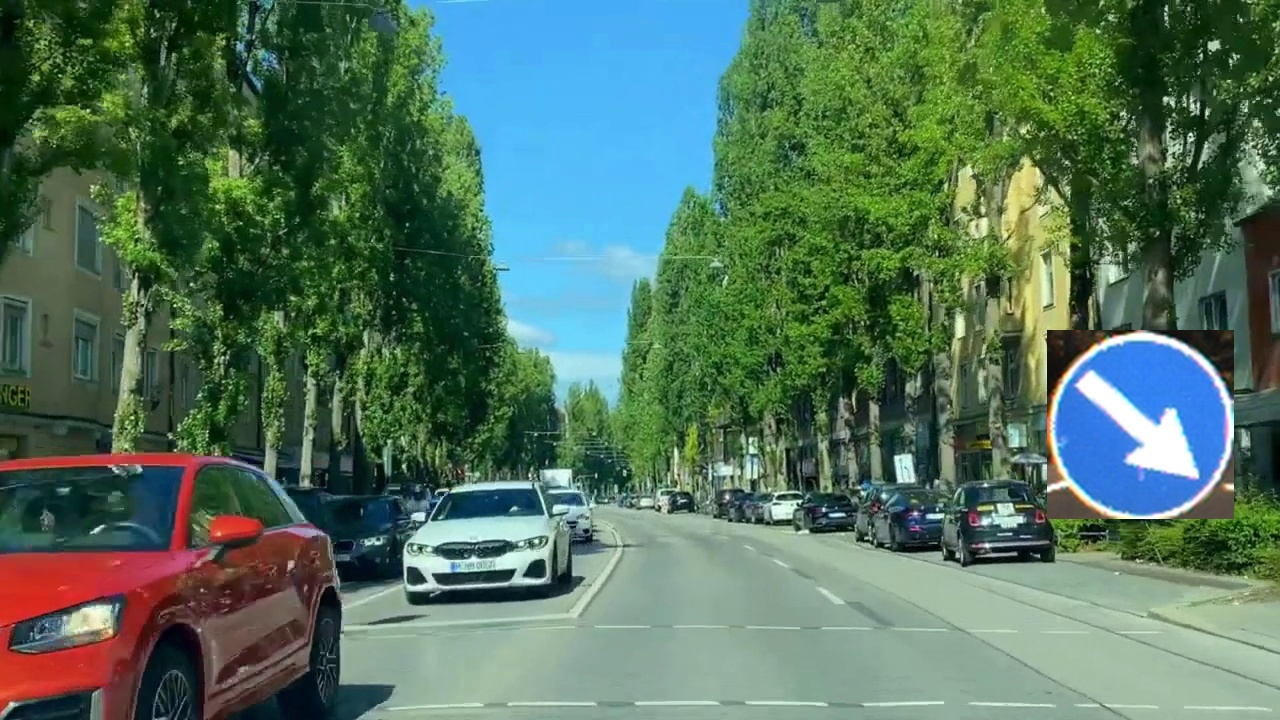Keep right: (1047, 330, 1234, 519)
